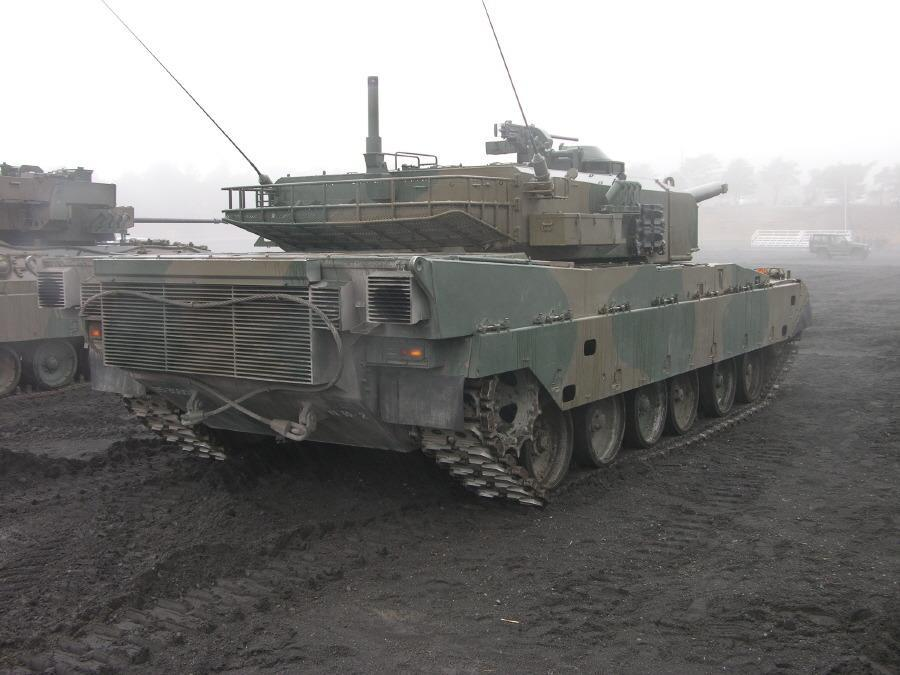MIL_IFV: (69, 116, 814, 516)
